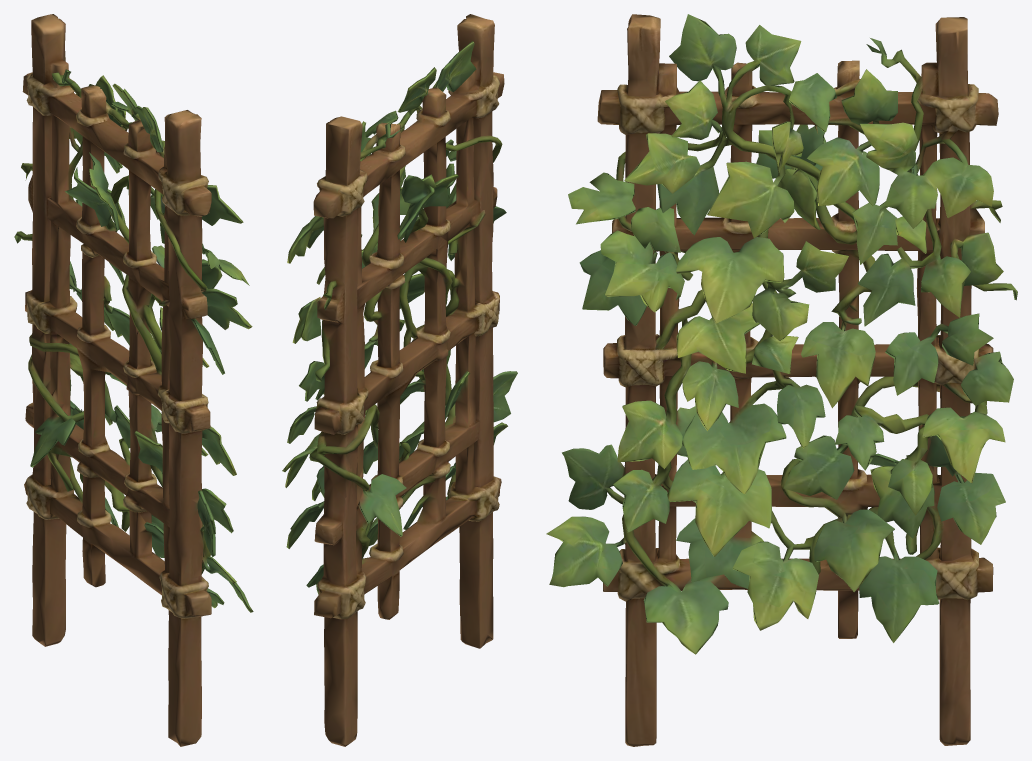
Rendered from enrejado.glb.
The picture shows the model from 3 angles, left to right: view 1: azimuth 30°, elevation 25°; view 2: azimuth 150°, elevation 25°; view 3: azimuth 270°, elevation 25°; orthographic projection. The views are drawn at different scales.
Parts seen in each view (by area): view 1: tripo_node_dbfa4190-2c30-49b9-a0a7-1a95cd13e05d; view 2: tripo_node_dbfa4190-2c30-49b9-a0a7-1a95cd13e05d; view 3: tripo_node_dbfa4190-2c30-49b9-a0a7-1a95cd13e05d.
Part boxes in pixels (x1,y1,x2,y2): tripo_node_dbfa4190-2c30-49b9-a0a7-1a95cd13e05d: (14,14,253,746); tripo_node_dbfa4190-2c30-49b9-a0a7-1a95cd13e05d: (282,14,517,746); tripo_node_dbfa4190-2c30-49b9-a0a7-1a95cd13e05d: (546,14,1017,746).
Size of the model in its own units: 0.171 by 1 by 0.5916.
1 material, 1 textured.
